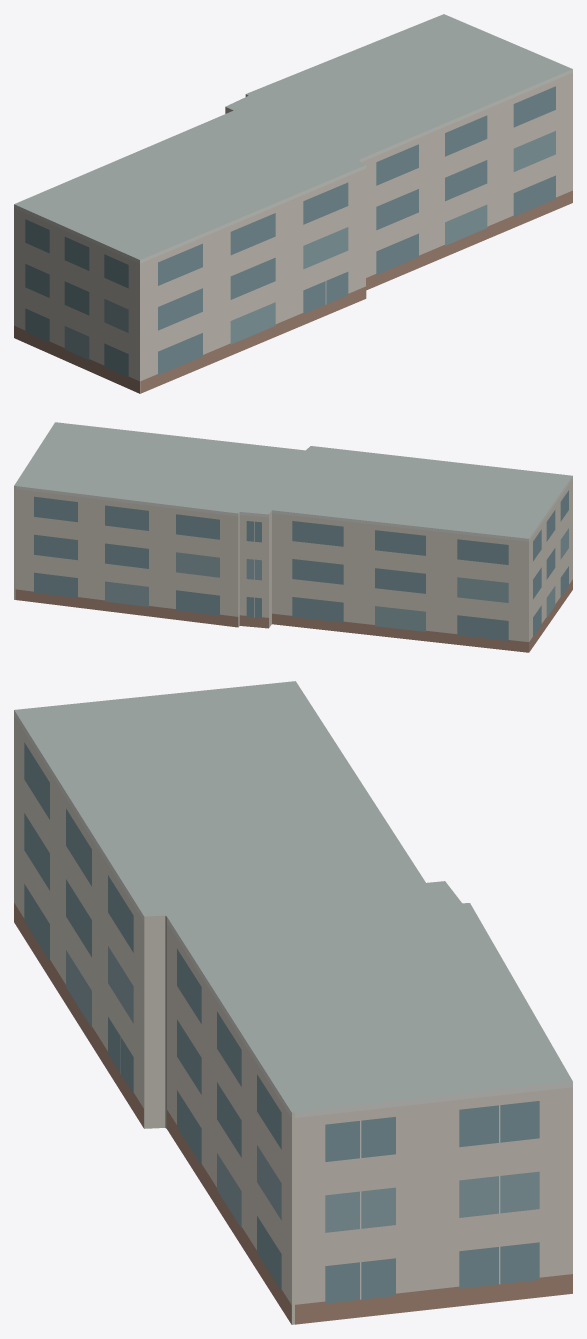
The model's file is survey-upis-32617177.glb.
3 renders of one model, top to bottom at view 1: azimuth 30°, elevation 25°; view 2: azimuth 150°, elevation 25°; view 3: azimuth 270°, elevation 25°, orthographic. The views are drawn at different scales.
Parts seen in each view (by area): view 1: survey-upis-32617177.tmp; view 2: survey-upis-32617177.tmp; view 3: survey-upis-32617177.tmp.
Boxes of the visible parts, <box> form: survey-upis-32617177.tmp: <box>14,14,572,393</box>; survey-upis-32617177.tmp: <box>14,422,572,652</box>; survey-upis-32617177.tmp: <box>14,681,572,1324</box>.
Bounding box in the file's own units: 39.91 × 9.15 × 21.84.
